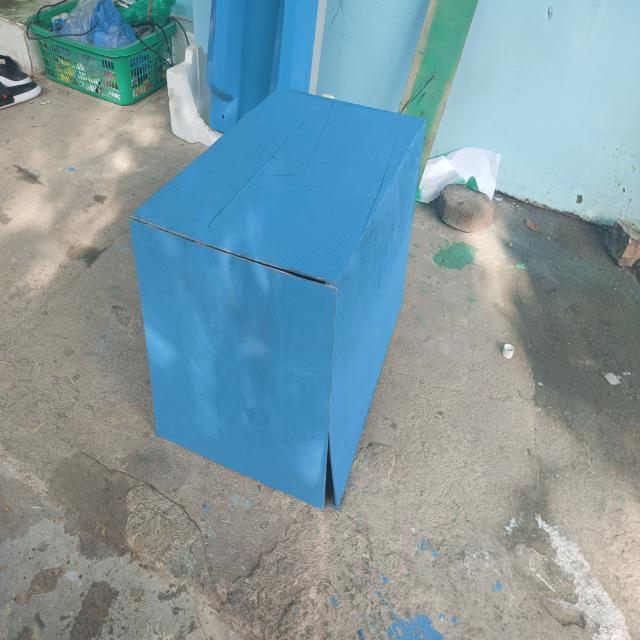blue_box: (132, 82, 424, 501)
